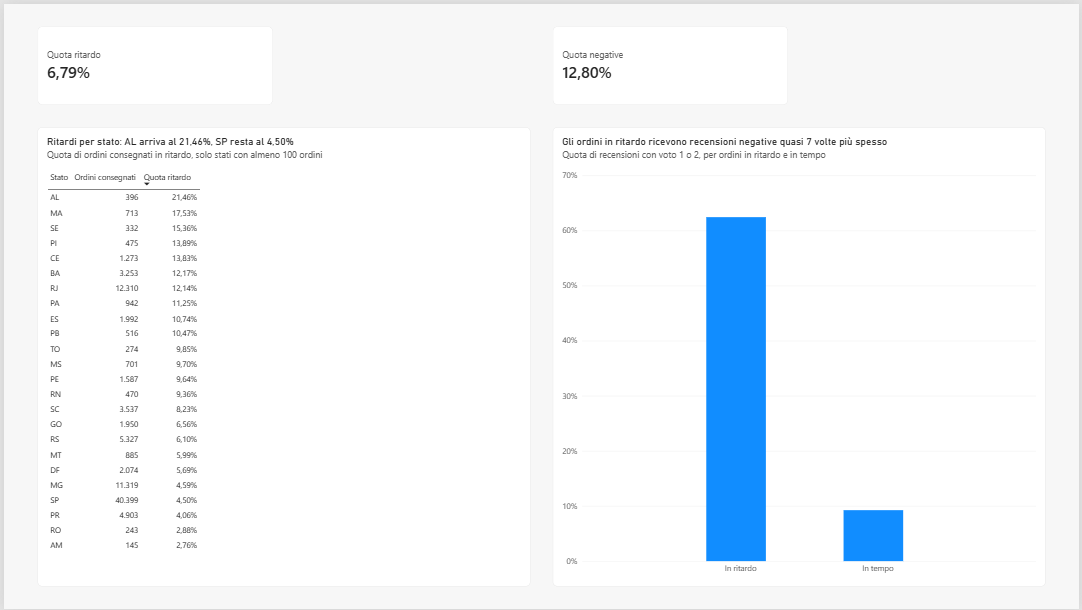

Layout of this report page (visuals, bound fields, positions):
{"tool":"powerbi","page":{"name":"Ritardi","canvas":[1920,1080],"ordinal":3},"visuals":[{"type":"cardVisual","fields":{"Data":["clean reviews.Quota negative"]},"box":[980,40,420,140],"z":0},{"type":"clusteredColumnChart","title":"Gli ordini in ritardo ricevono recensioni negative quasi 7 volte più spesso","fields":{"Category":["clean orders.In ritardo"],"Y":["clean reviews.Quota negative"]},"box":[980,220,880,820],"z":1000},{"type":"cardVisual","fields":{"Data":["clean orders.Quota ritardo"]},"box":[60,40,420,140],"z":2000},{"type":"tableEx","title":"Ritardi per stato: AL arriva al 21,46%, SP resta al 4,50%","fields":{"Values":["clean customers.customer_state","clean orders.Ordini consegnati","clean orders.Quota ritardo"]},"box":[60,220,880,820],"z":3000}]}

Visuals, with their boxes in screenshot pixels (x1, y1, x2, y2), scaled from the page's 1920x1080 canvas onto the 1082x610 screenshot:
cardVisual - clean reviews.Quota negative: (x1=552, y1=23, x2=789, y2=102)
"Gli ordini in ritardo ricevono recensioni negative quasi 7 volte più spesso" clusteredColumnChart: (x1=552, y1=124, x2=1048, y2=587)
cardVisual - clean orders.Quota ritardo: (x1=34, y1=23, x2=270, y2=102)
"Ritardi per stato: AL arriva al 21,46%, SP resta al 4,50%" tableEx: (x1=34, y1=124, x2=530, y2=587)
